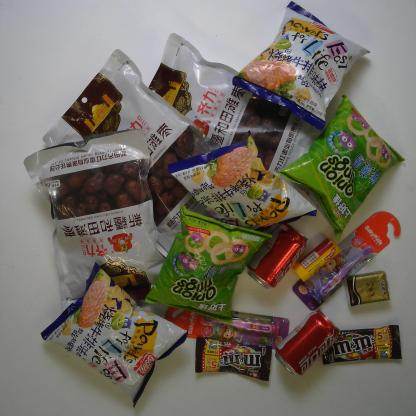Candy: (291, 236, 342, 284)
Chocolate: (192, 336, 274, 384), (321, 323, 403, 367)
Dried Food: (41, 48, 224, 259), (144, 30, 329, 187), (21, 127, 165, 311)
Drink: (274, 307, 344, 379), (246, 221, 310, 291)
Personal Hygiene: (292, 211, 402, 311), (161, 306, 291, 352)
Puffed Food: (39, 260, 191, 411), (275, 92, 407, 241), (230, 0, 373, 134), (165, 128, 320, 232), (144, 204, 274, 324)
Tissue: (341, 268, 393, 308)
